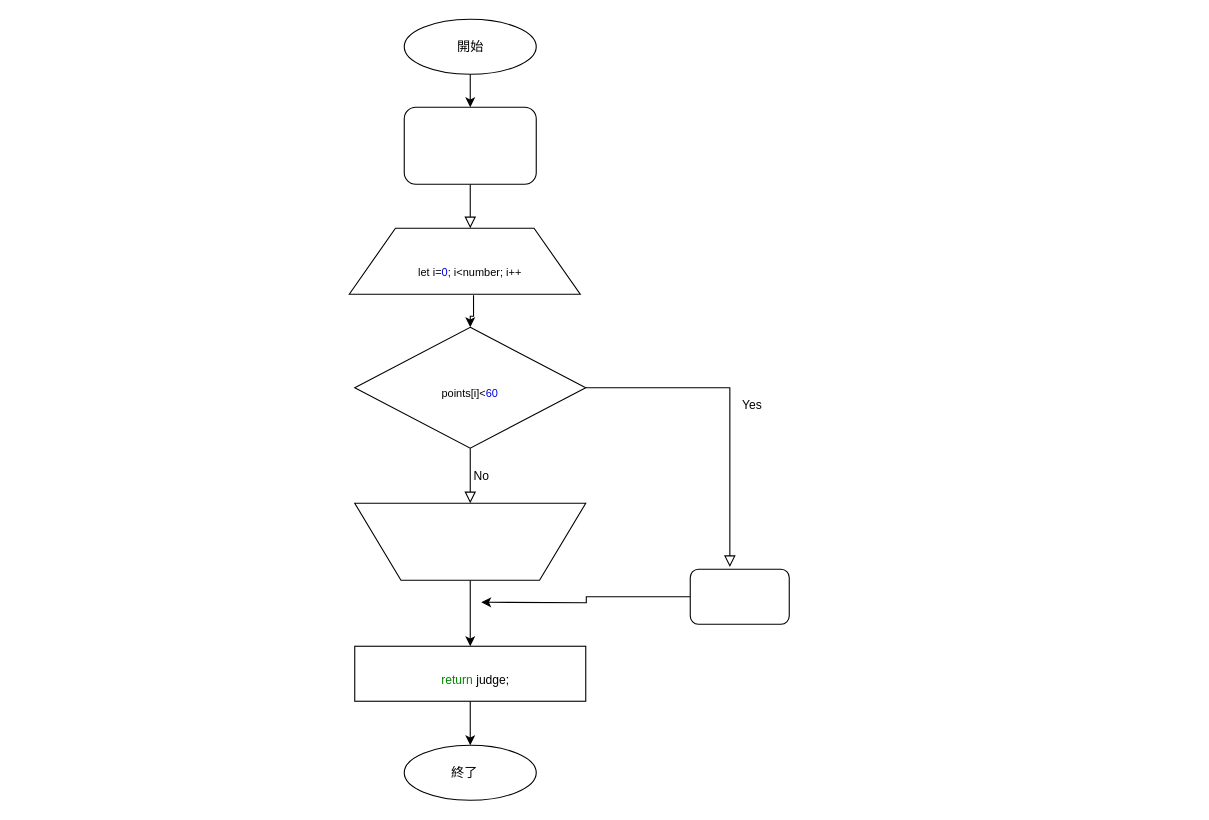
This 1209x820 diagram has some shape labels left out. Here are the shapes that lost their labels. From the top down, the box of each, then its label:
(403, 106, 536, 184): get_pass_or_failure let judge = " 合格 " ;
(689, 568, 789, 624): judge= " 不合格 " ;
